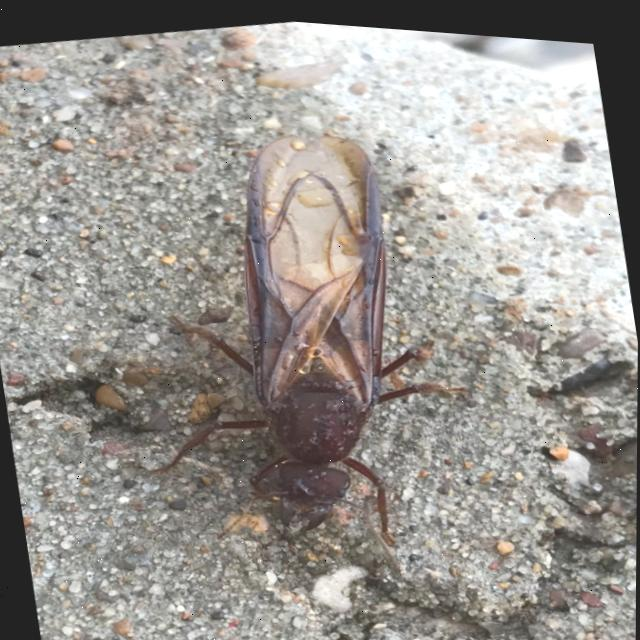Alive-Female-Alate: (92, 98, 495, 586)
